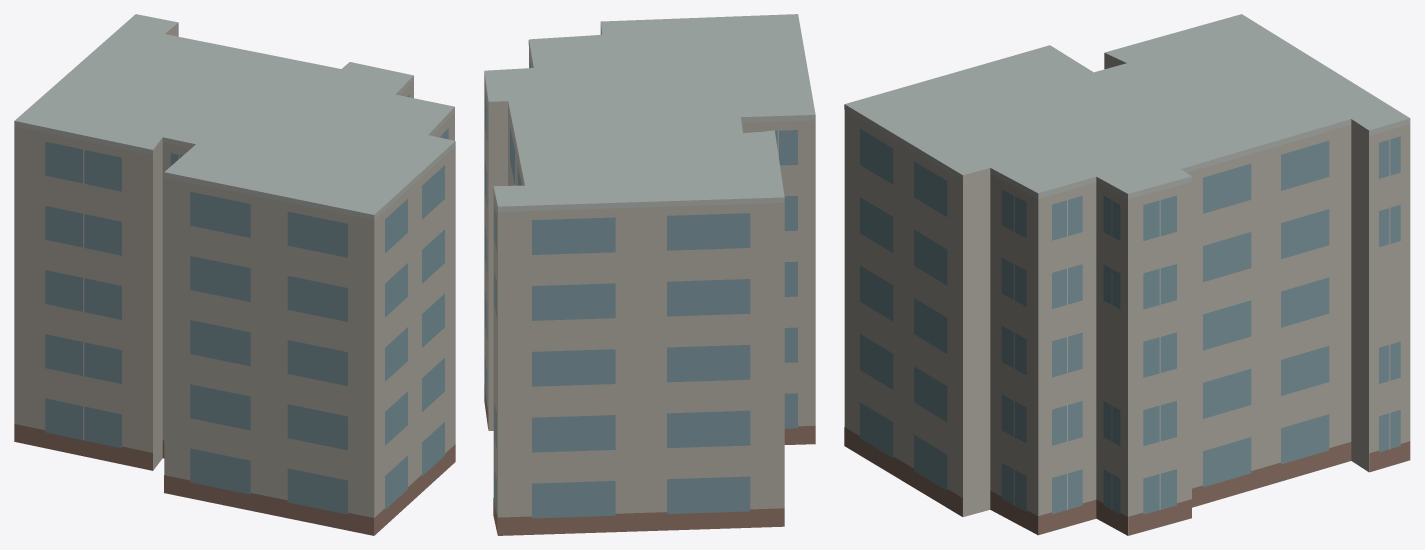
Rendered from survey-upis-33036963.glb.
3 views of the same model, side by side, from view 1: azimuth 30°, elevation 25°; view 2: azimuth 150°, elevation 25°; view 3: azimuth 270°, elevation 25° (orthographic). The views are drawn at different scales.
Parts seen in each view (by area): view 1: survey-upis-33036963.tmp; view 2: survey-upis-33036963.tmp; view 3: survey-upis-33036963.tmp.
Part boxes in pixels (x1,y1,x2,y2): survey-upis-33036963.tmp: [14, 14, 455, 535]; survey-upis-33036963.tmp: [484, 14, 815, 535]; survey-upis-33036963.tmp: [844, 14, 1410, 535].
Bounding box in the file's own units: 16.6 × 14.7 × 22.06.
